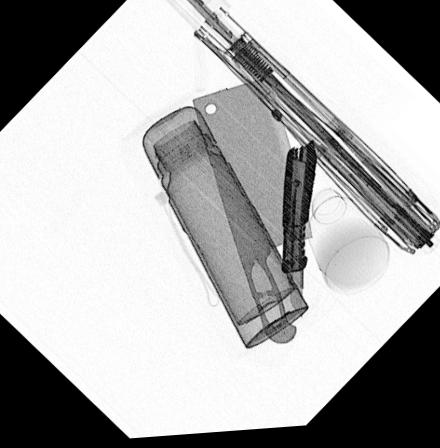Knife: (191, 78, 313, 349), (279, 143, 317, 323)
